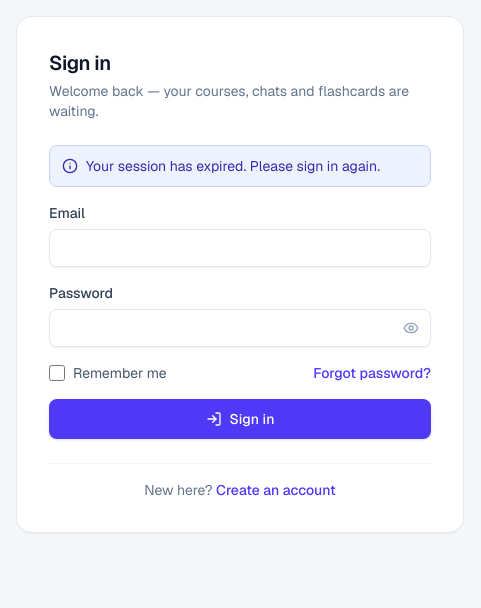
Test: LoginForm › shows the server's error and the expired-session notice
Expected: the text "Your session has expired. Please sign in again." is shown, [86,156,380,176]
In the field labelled "Email": (240, 248) [49,229,431,267], type "ada@example.com"
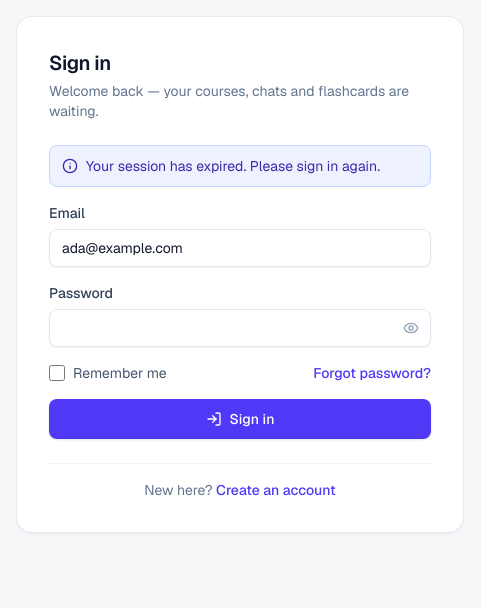
In the password field labelled "Password": (240, 328) [49,309,431,347], type "wrong password"
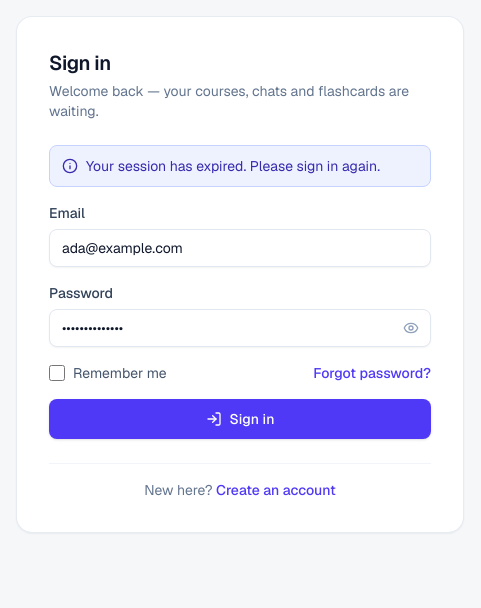
Click the button "Sign in": (240, 419) [49,399,431,439]
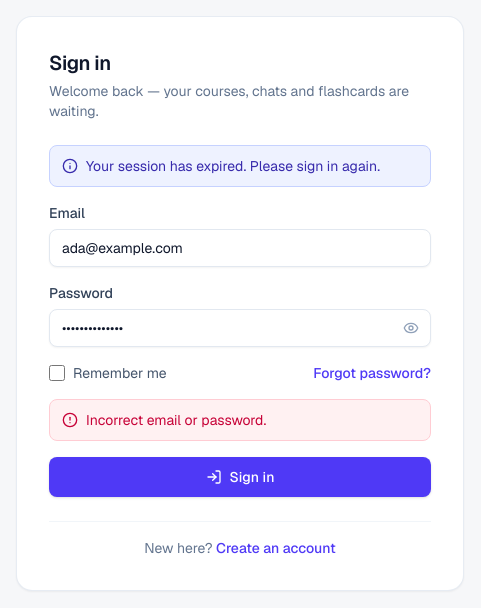
Now the message "Incorrect email or password." is shown, box [49,399,431,441]
